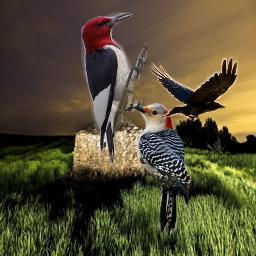Crow: (148, 57, 239, 120)
Woodpecker: (81, 12, 147, 169), (129, 103, 191, 235)
